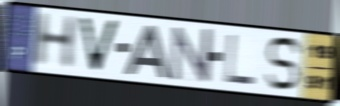A: (123, 24, 171, 79)
H: (30, 10, 80, 69)
L: (223, 32, 256, 87)
N: (170, 26, 214, 84)
S: (263, 35, 304, 93)
V: (77, 15, 122, 75)
